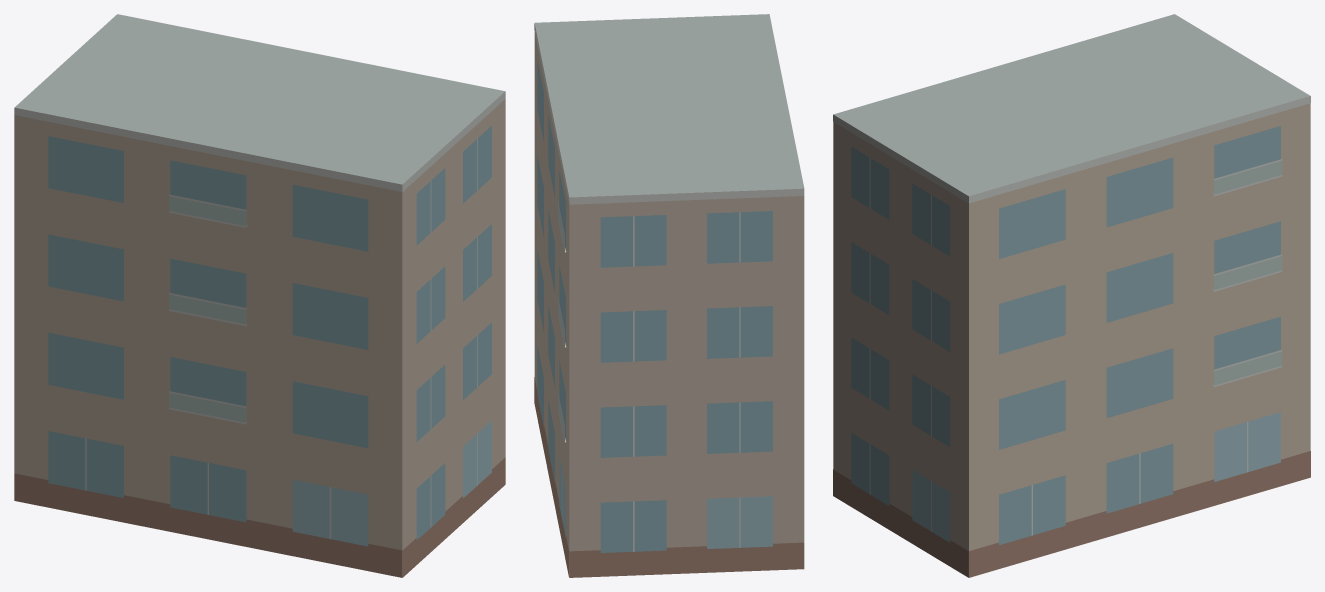
File: survey-upis-32802052.glb
The picture shows the model from 3 angles, left to right: view 1: azimuth 30°, elevation 25°; view 2: azimuth 150°, elevation 25°; view 3: azimuth 270°, elevation 25°; orthographic projection. The views are drawn at different scales.
Visible parts, largest first — view 1: survey-upis-32802052.tmp; view 2: survey-upis-32802052.tmp; view 3: survey-upis-32802052.tmp.
Part boxes in pixels (left/top/right/bottom): survey-upis-32802052.tmp: left=14, top=14, right=505, bottom=577; survey-upis-32802052.tmp: left=534, top=14, right=804, bottom=577; survey-upis-32802052.tmp: left=833, top=14, right=1310, bottom=577.
Size of the model in its own units: 13.23 by 12.9 by 14.64.
